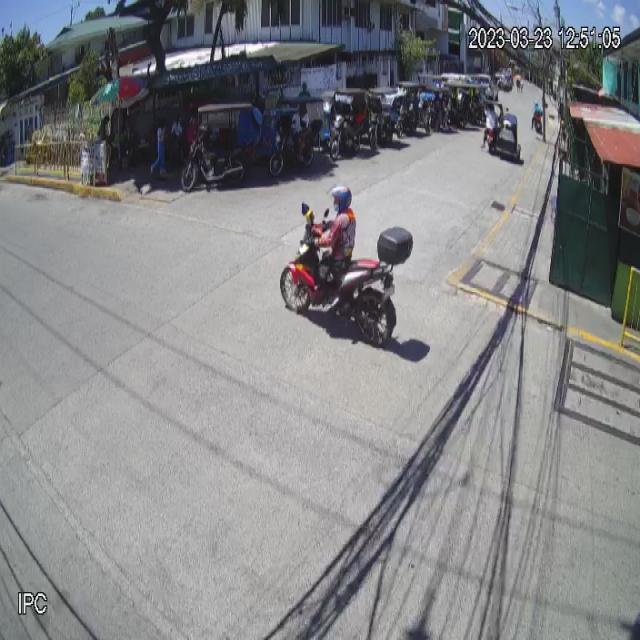Motorcycle: (281, 200, 414, 346)
